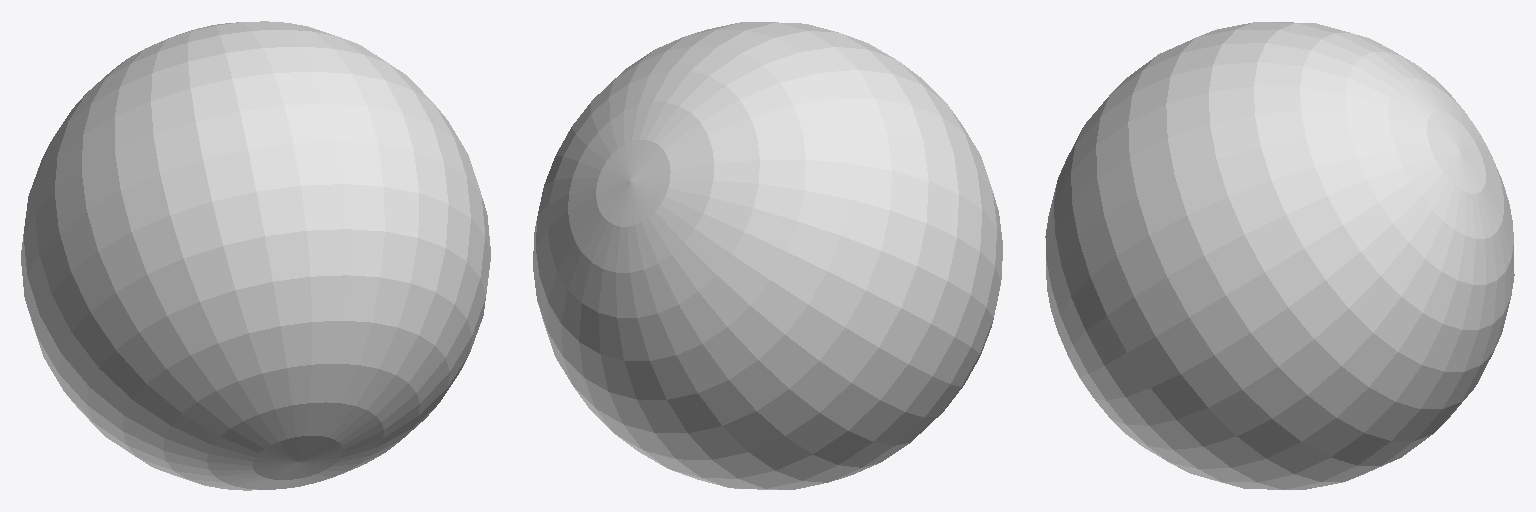
The model's file is ball_0.obj.
3 renders of one model, left to right at view 1: azimuth 30°, elevation 25°; view 2: azimuth 150°, elevation 25°; view 3: azimuth 270°, elevation 25°, orthographic.
Visible parts, largest first — view 1: Sphere.015; view 2: Sphere.015; view 3: Sphere.015.
Part boxes in pixels (bbox=[...]): Sphere.015: bbox=[21, 21, 490, 490]; Sphere.015: bbox=[533, 22, 1002, 489]; Sphere.015: bbox=[1045, 22, 1514, 489].
Size of the model in its own units: 0.057 by 0.057 by 0.0569.